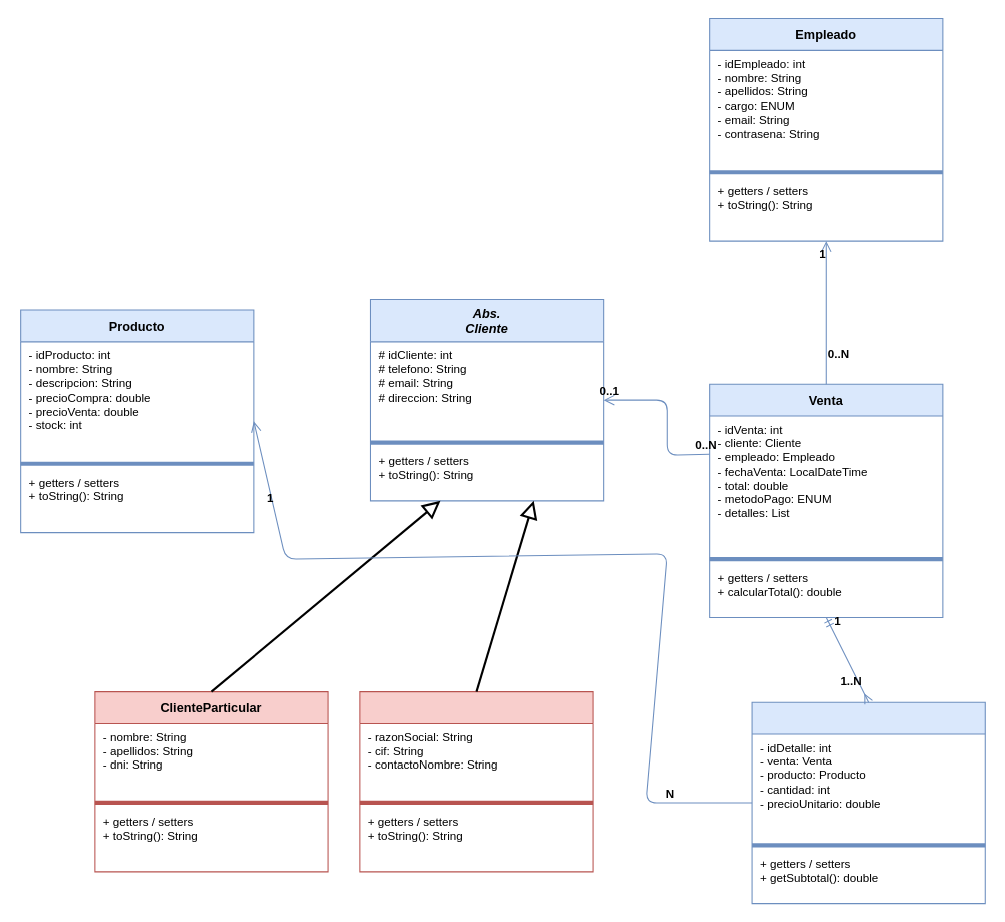
This 1005x922 diagram has some shape labels left out. The box of each missing label's shape, as (x1, y1, x2, y2) in pixels:
ClienteEmpresa: (359, 691, 593, 872)
DetalleVenta: (751, 701, 985, 904)
